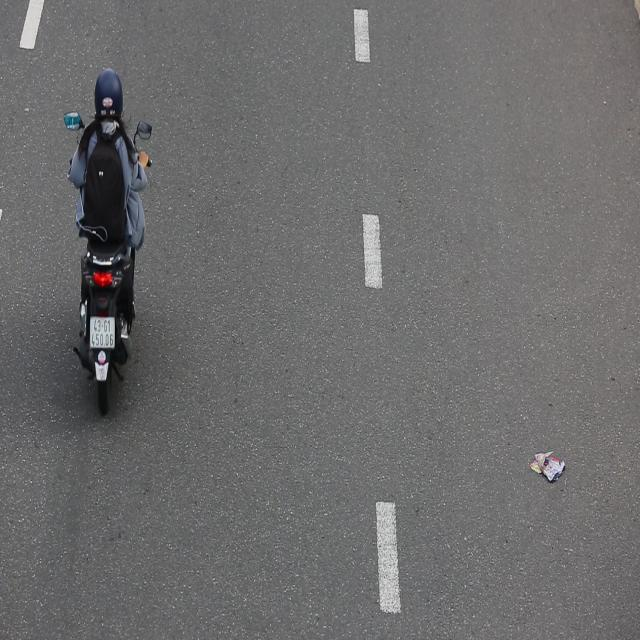motorbike: (60, 65, 154, 417)
